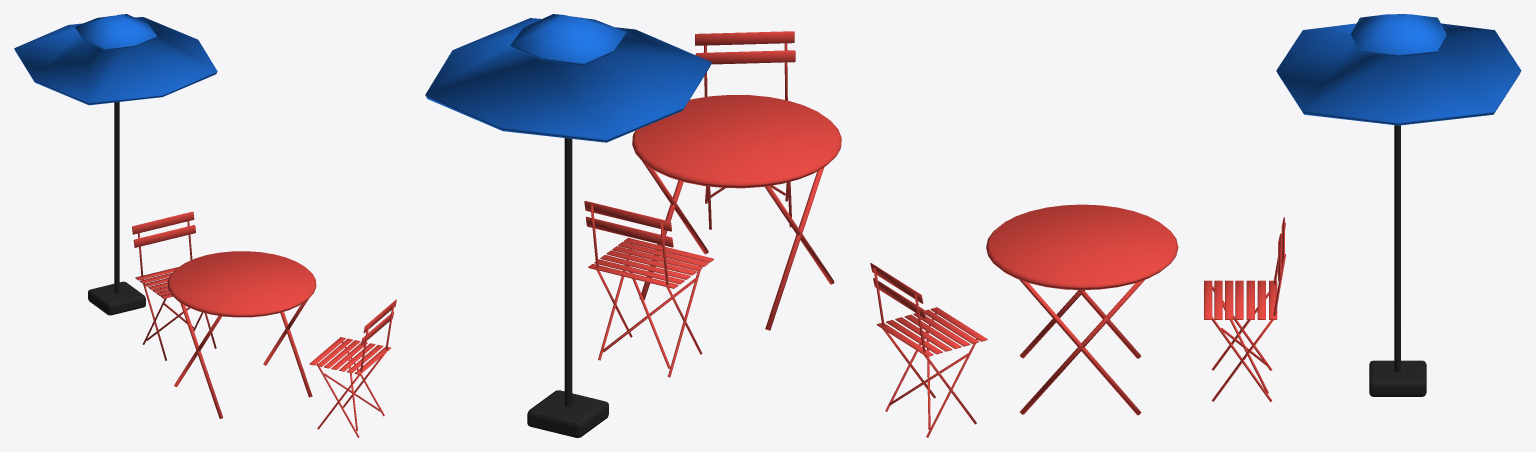
File: outdoor chairs.fbx
3 views of the same model, side by side, from view 1: azimuth 30°, elevation 25°; view 2: azimuth 150°, elevation 25°; view 3: azimuth 270°, elevation 25° (orthographic). The views are drawn at different scales.
Parts seen in each view (by area): view 1: Cube.042, Cylinder, Cube.001, Cube.005, Cube.040, Cube.041; view 2: Cube.042, Cylinder, Cube.005, Cube.001, Cube.040, Cube.041; view 3: Cube.042, Cylinder, Cube.001, Cube.005, Cube.040, Cube.041.
Boxes of the visible parts, left/top/right/bottom form: Cube.042: left=14, top=14, right=217, bottom=105; Cylinder: left=167, top=251, right=316, bottom=418; Cube.001: left=309, top=299, right=396, bottom=437; Cube.005: left=132, top=211, right=216, bottom=360; Cube.040: left=88, top=281, right=145, bottom=315; Cube.041: left=114, top=102, right=119, bottom=293; Cube.042: left=425, top=14, right=711, bottom=142; Cylinder: left=632, top=95, right=841, bottom=330; Cube.005: left=584, top=201, right=713, bottom=377; Cube.001: left=695, top=31, right=795, bottom=229; Cube.040: left=527, top=390, right=608, bottom=437; Cube.041: left=564, top=138, right=572, bottom=407; Cube.042: left=1276, top=14, right=1521, bottom=125; Cylinder: left=986, top=204, right=1178, bottom=415; Cube.001: left=870, top=263, right=987, bottom=437; Cube.005: left=1204, top=217, right=1286, bottom=401; Cube.040: left=1369, top=360, right=1426, bottom=396; Cube.041: left=1394, top=125, right=1400, bottom=372.
Size of the model in its own units: 276 by 422 by 678.
